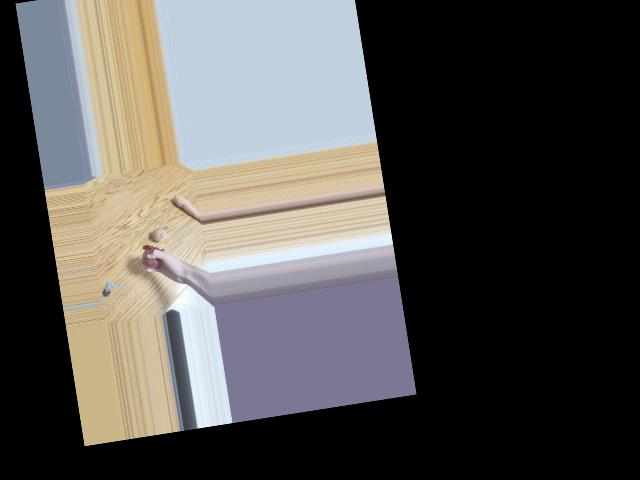onion: (151, 227, 172, 247)
